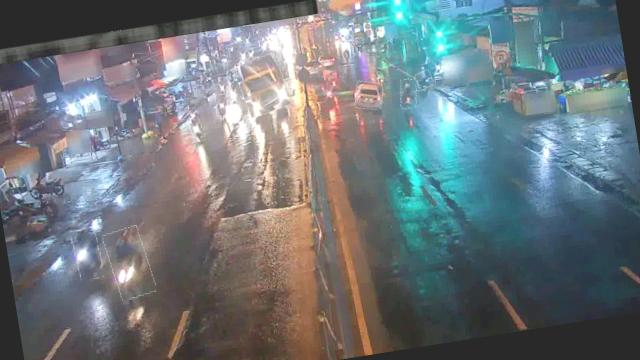Bike: (104, 225, 155, 301), (70, 227, 104, 280), (398, 77, 419, 109), (188, 114, 205, 142), (215, 94, 230, 119), (416, 70, 434, 89), (188, 102, 197, 115)
Car: (353, 78, 386, 112)
Truck: (234, 54, 290, 118)
